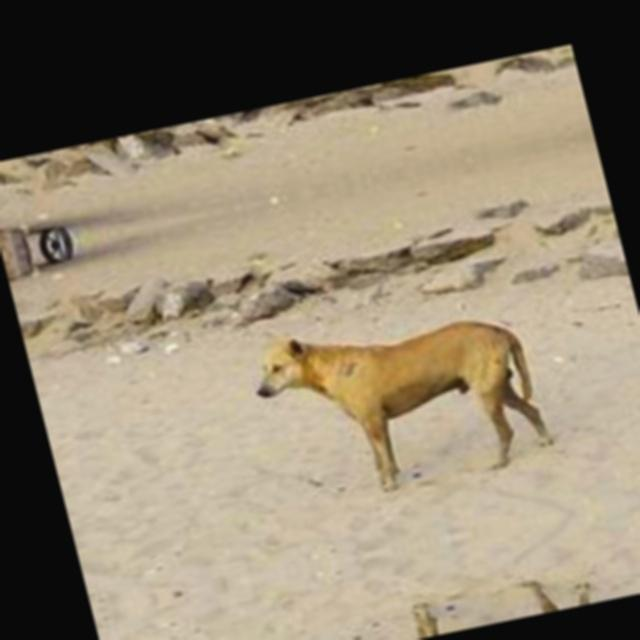dog: (220, 270, 586, 560), (285, 522, 612, 640)
